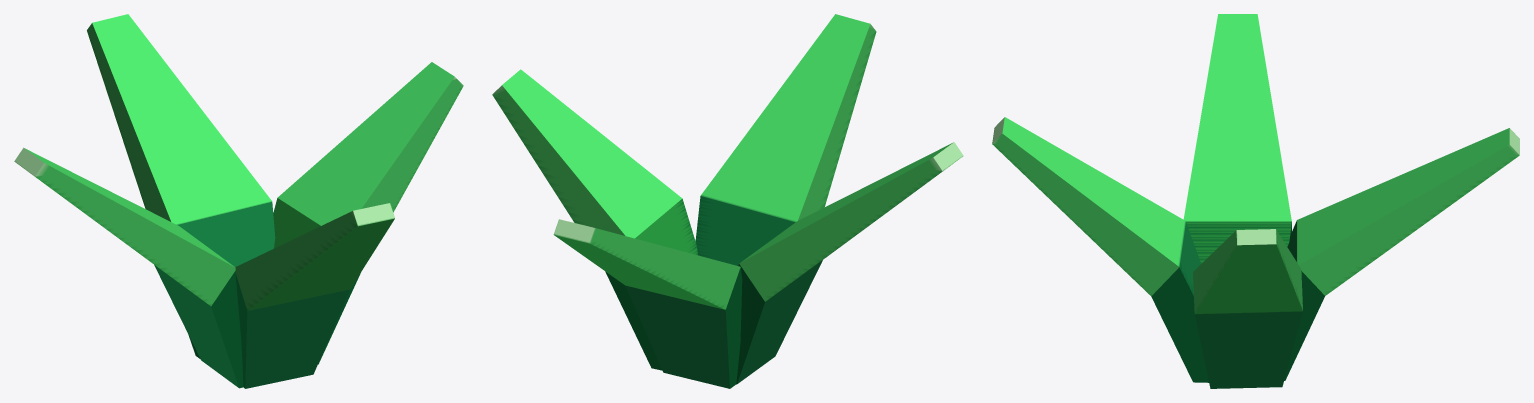
Rendered from grassriggged4.fbx.
3 views of the same model, side by side, from view 1: azimuth 30°, elevation 25°; view 2: azimuth 150°, elevation 25°; view 3: azimuth 270°, elevation 25° (orthographic). The views are drawn at different scales.
Visible parts, largest first — view 1: Cube_002; view 2: Cube_002; view 3: Cube_002.
Boxes of the visible parts, left/top/right/bottom form: Cube_002: left=14, top=14, right=463, bottom=388; Cube_002: left=492, top=14, right=963, bottom=388; Cube_002: left=992, top=14, right=1519, bottom=388.
Size of the model in its own units: 167 by 95.96 by 183.
